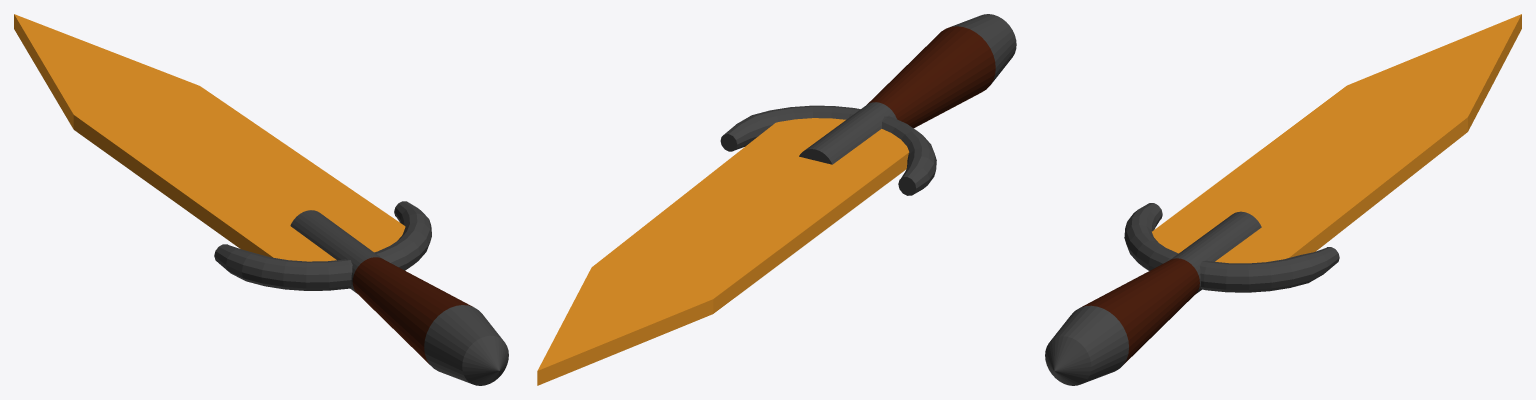
3 renders of one model, left to right at view 1: azimuth 30°, elevation 25°; view 2: azimuth 150°, elevation 25°; view 3: azimuth 330°, elevation 25°, orthographic.
Visible parts, largest first — view 1: 72; view 2: 72; view 3: 72.
Boxes of the visible parts, x1,y1,x2,y2 form: 72: (14,14,508,385); 72: (537,14,1016,385); 72: (1045,14,1521,385).
Bounding box in the file's own units: 10.01 × 3.23 × 41.96.
